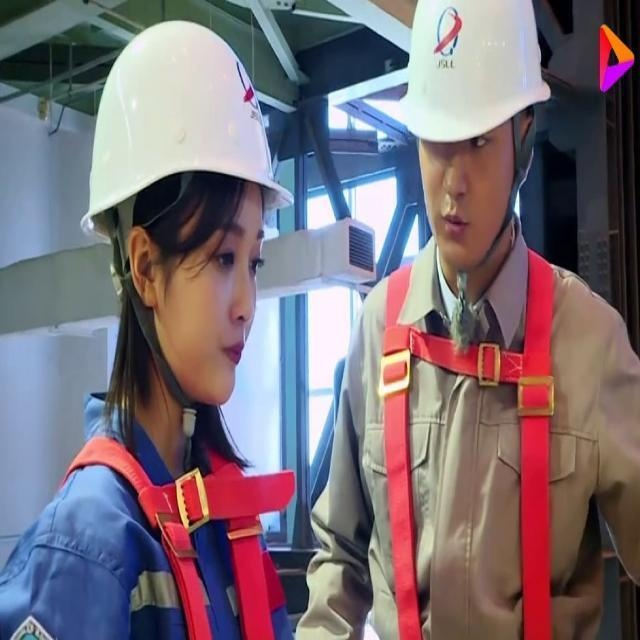Arnes_seguridad: (372, 238, 566, 639), (42, 398, 297, 639)
